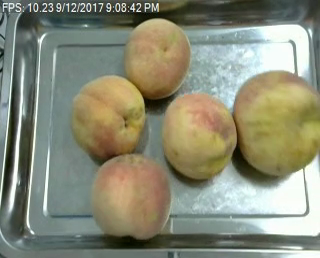Peach: (234, 69, 320, 176), (91, 152, 172, 239), (161, 91, 237, 179), (70, 74, 147, 158), (122, 17, 191, 98)
